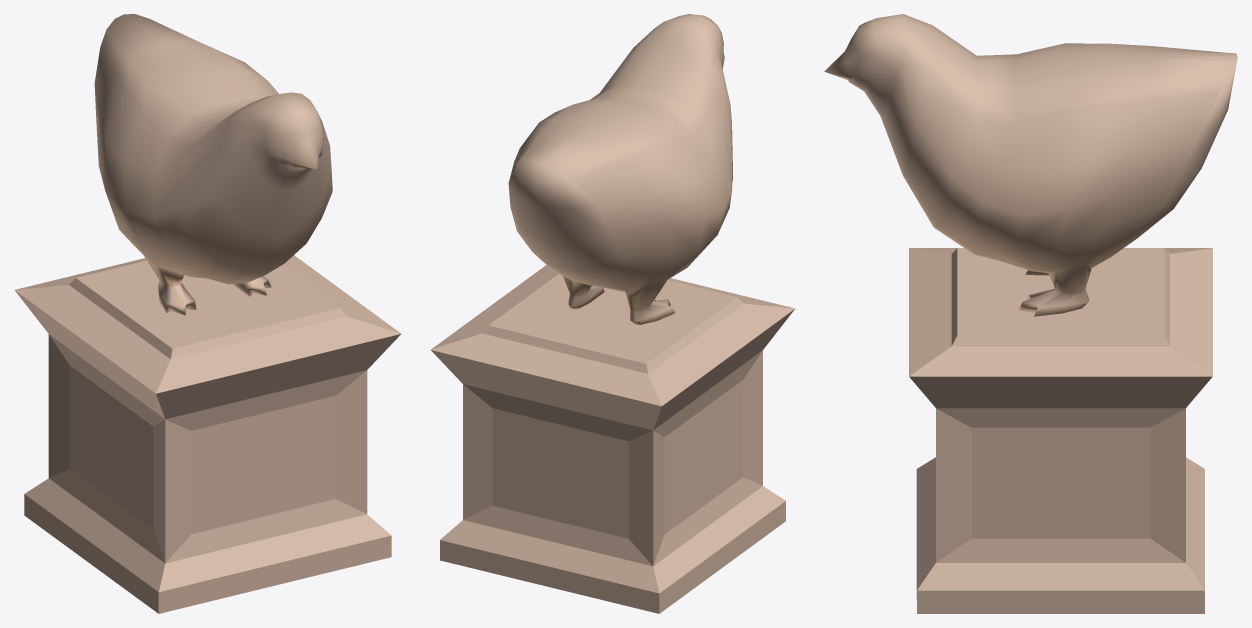
File: chicken_sculpture.fbx
3 renders of one model, left to right at view 1: azimuth 30°, elevation 25°; view 2: azimuth 150°, elevation 25°; view 3: azimuth 270°, elevation 25°, orthographic. The views are drawn at different scales.
Parts seen in each view (by area): view 1: pCube2; view 2: pCube2; view 3: pCube2.
Part boxes in pixels (x1,y1,x2,y2): pCube2: [14, 14, 401, 613]; pCube2: [431, 14, 795, 613]; pCube2: [824, 14, 1237, 613].
Bounding box in the file's own units: 0.6288 × 1.22 × 0.8558.
